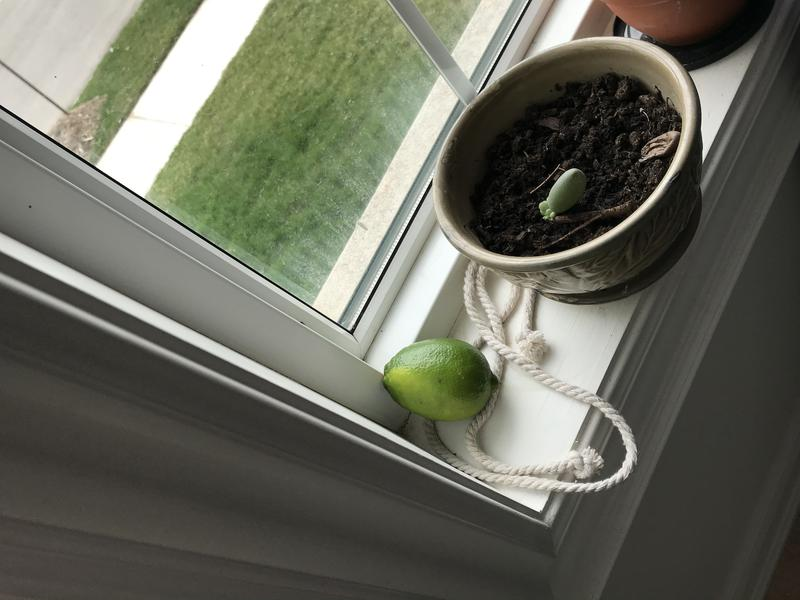lime: (375, 333, 509, 428)
